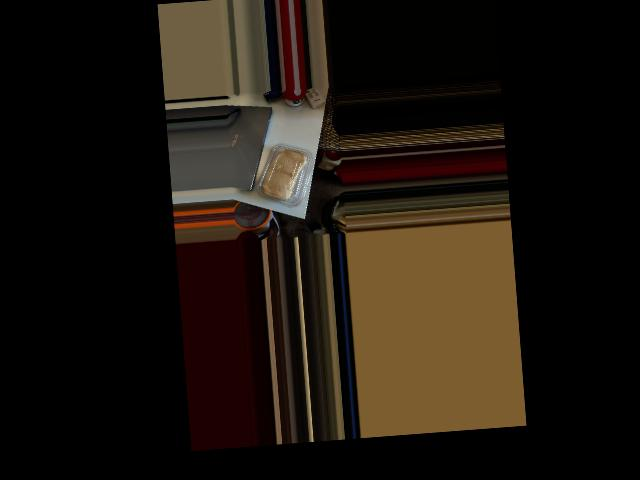cheese: (252, 139, 316, 214)
